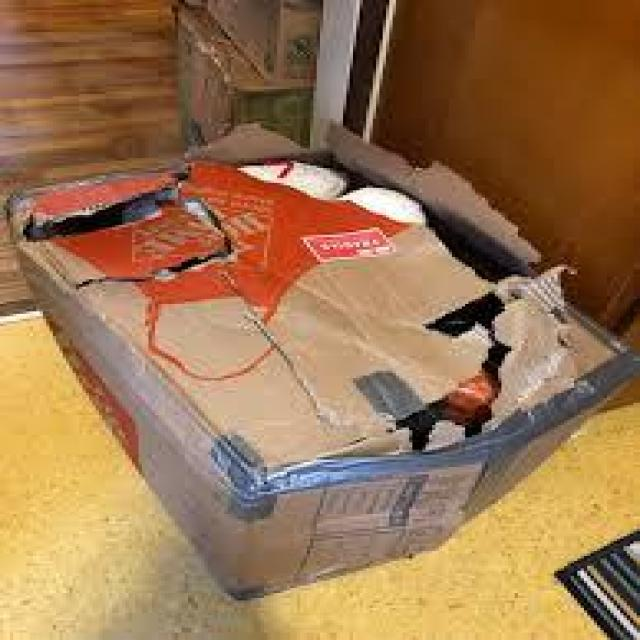damaged: (386, 252, 551, 430)
